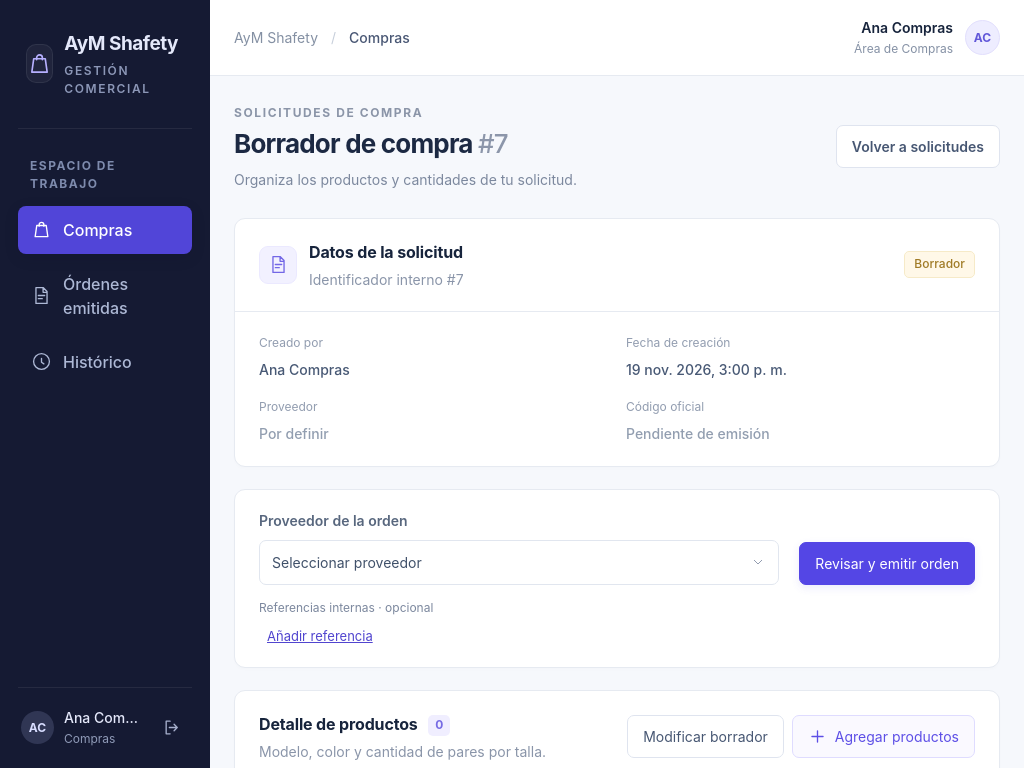
Test: Flujo integrado de Compras › selecciona y guarda productos desde el editor y persiste observaciones con PATCH
Step 1. Click the button "Agregar productos" → (883, 737), box [792, 715, 975, 758]
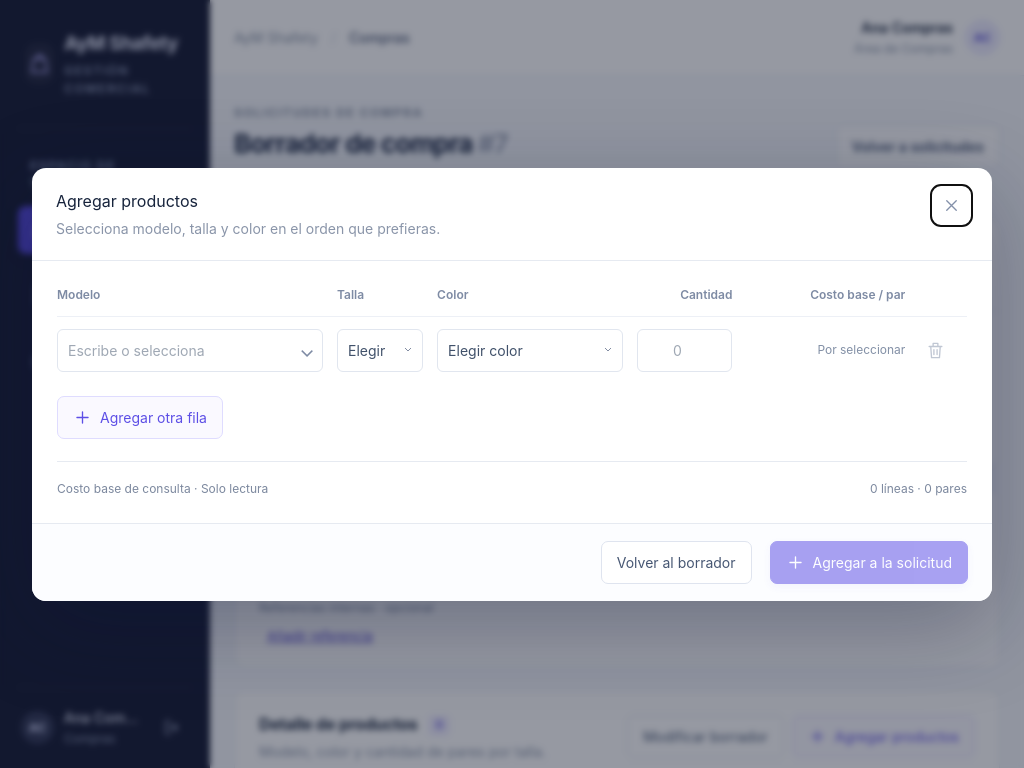
Step 2. Select "Negro" in the dropdown named "Color de la fila 1" → (530, 350), box [437, 328, 623, 372]
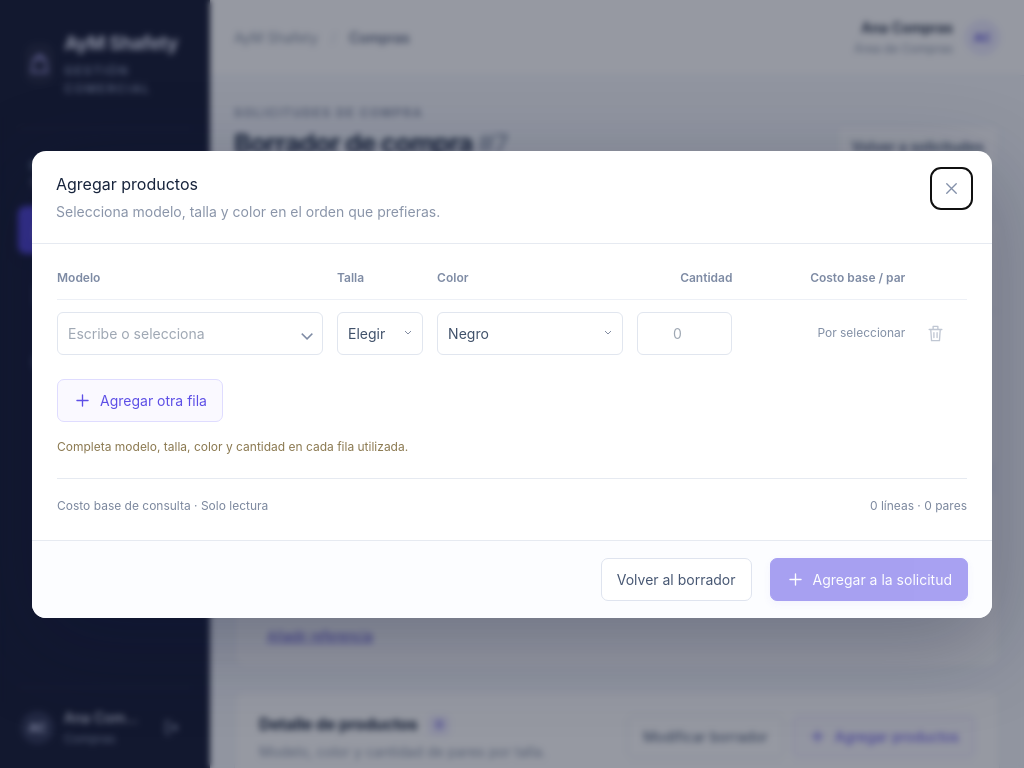
Step 3. Select "40" in the dropdown named "Talla de la fila 1" → (380, 333), box [337, 312, 423, 354]
Step 4. Type "Threshold" into the dropdown named "Modelo de la fila 1" → (190, 333), box [57, 312, 323, 354]
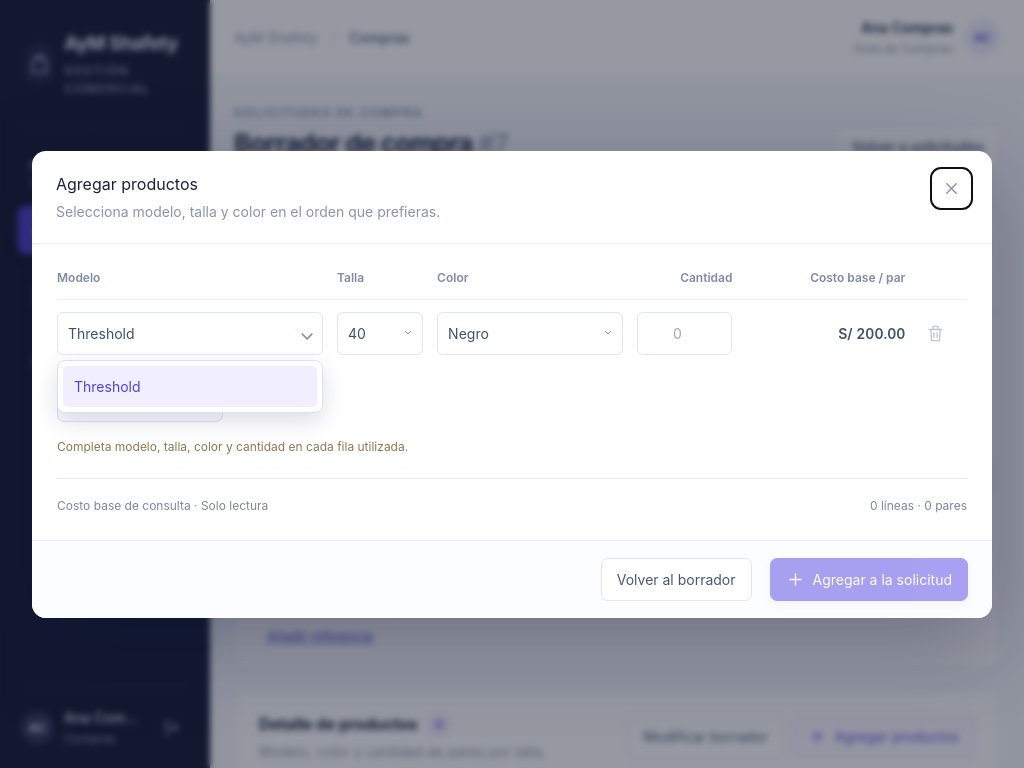
Step 5. Type "2" into the number field named "Cantidad de la fila 1" → (685, 333), box [637, 312, 732, 354]
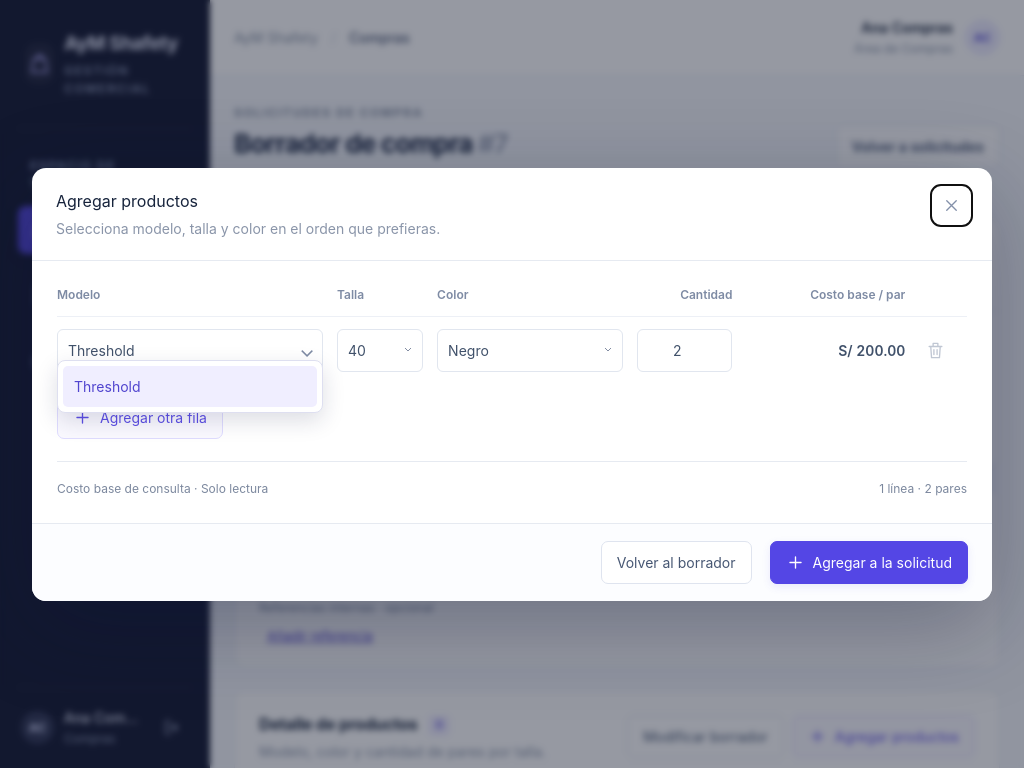
Step 6. Click the button "Agregar a la solicitud" → (869, 562), box [770, 540, 968, 584]
(page scrolled)
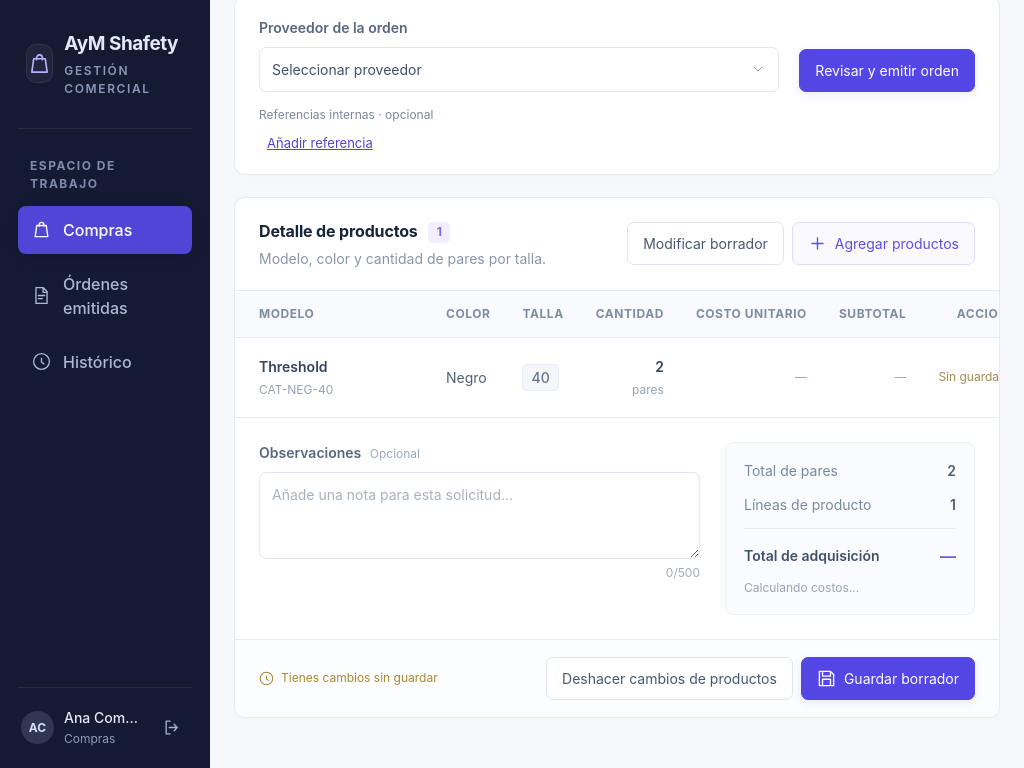
Now the text "Threshold" is shown, box [259, 358, 328, 375]
Now the dialog is gone
Step 7. Type "Pedido prioritario" into the text box labelled "Observaciones Opcional 0/500" → (480, 515), box [259, 472, 700, 559]
Step 8. Click the button "Guardar borrador" → (888, 678), box [801, 657, 975, 700]
(page scrolled)
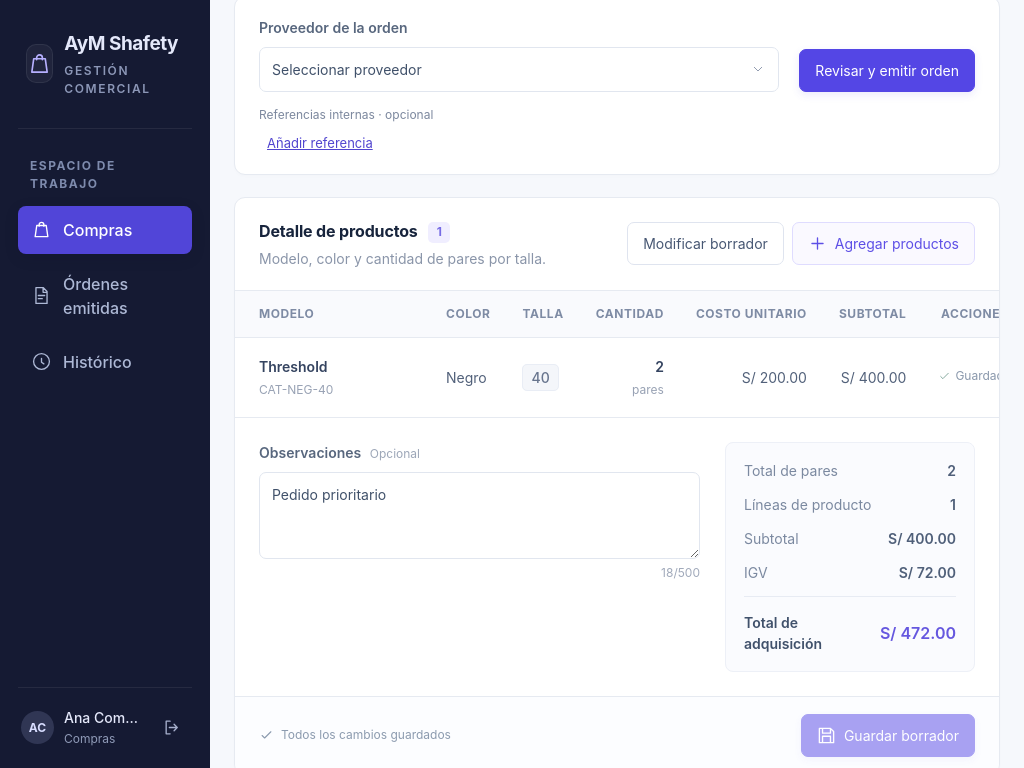
Now the button "Guardar borrador" is disabled, box [801, 714, 975, 757]
